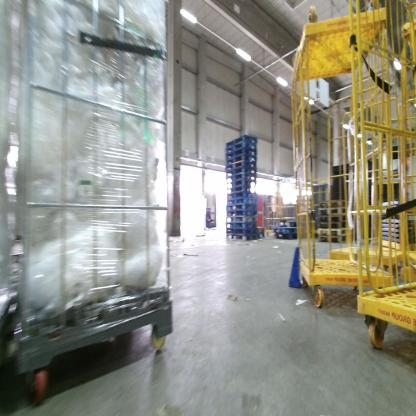pallet: (223, 231, 258, 242), (227, 135, 258, 147), (225, 178, 258, 189), (225, 153, 257, 164), (225, 142, 257, 153), (317, 235, 355, 244), (223, 190, 257, 200), (317, 207, 354, 216), (223, 160, 256, 170), (227, 147, 257, 158), (317, 199, 349, 209), (226, 185, 258, 195), (319, 214, 354, 223), (221, 166, 258, 174), (226, 197, 258, 205), (317, 229, 353, 236), (226, 204, 257, 212), (317, 222, 352, 229), (224, 229, 259, 236), (275, 226, 297, 237), (224, 222, 257, 229), (225, 174, 258, 181), (226, 210, 257, 217), (282, 232, 302, 242), (281, 219, 302, 228), (226, 217, 258, 222), (256, 231, 265, 239), (256, 226, 266, 232)
